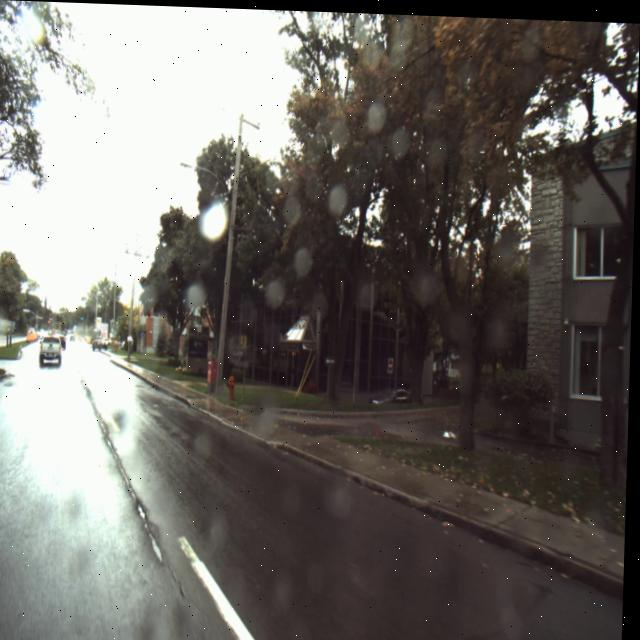car: (41, 335, 64, 367), (374, 386, 412, 402), (94, 338, 111, 351)
trafficLight: (49, 319, 53, 325)
